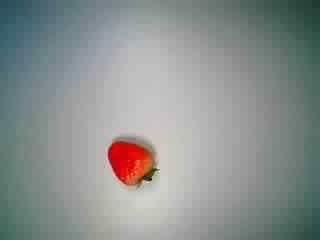strawberry: (97, 134, 163, 196)
